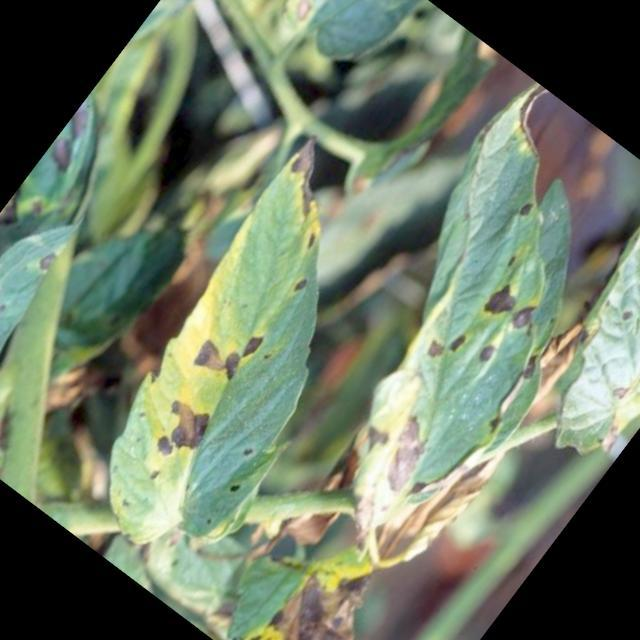Tomato Early blight leaf: (245, 98, 640, 556), (40, 145, 436, 577), (504, 183, 640, 473), (0, 180, 97, 435)
